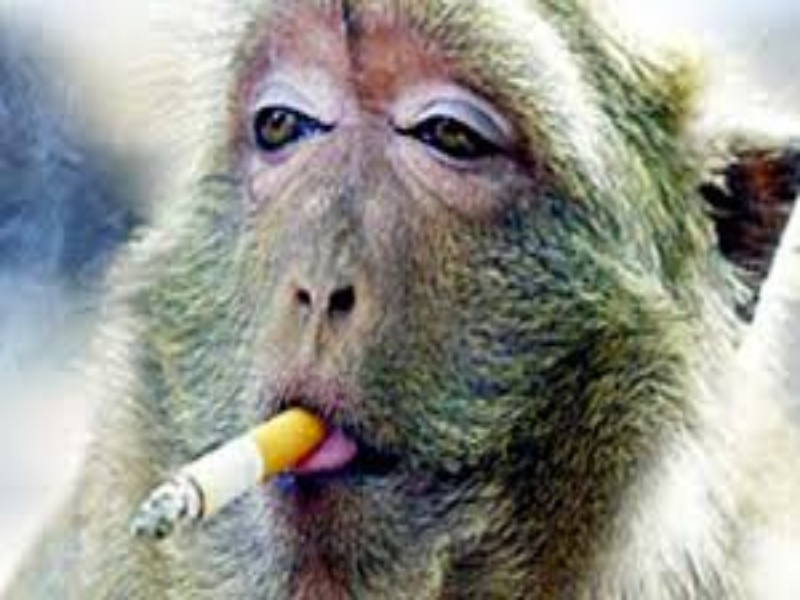monkey: (101, 4, 767, 570)
